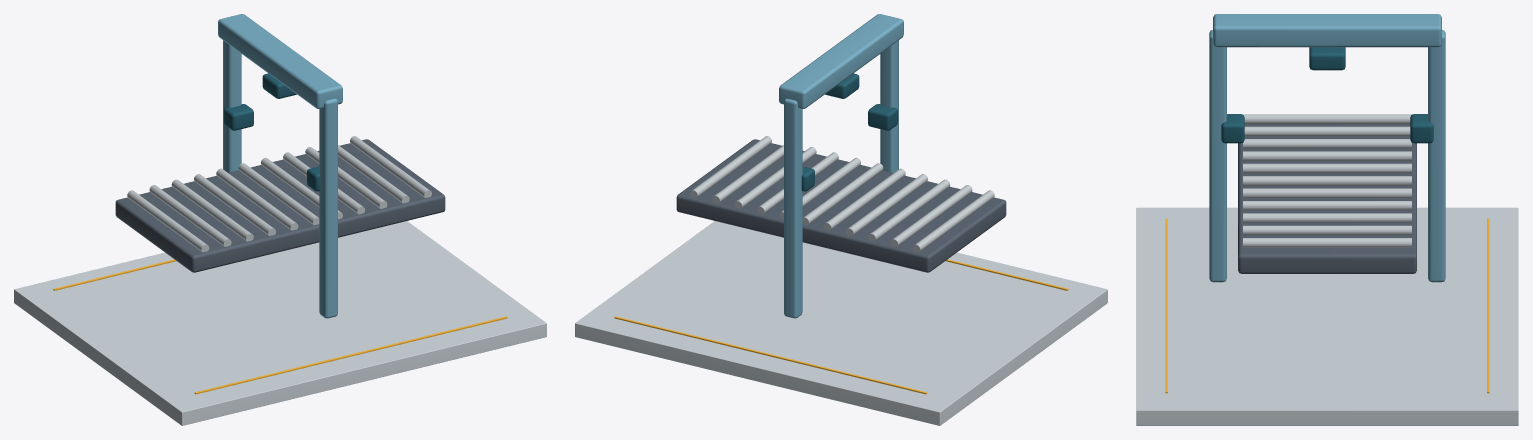
3 renders of one model, left to right at view 1: azimuth 30°, elevation 25°; view 2: azimuth 150°, elevation 25°; view 3: azimuth 270°, elevation 25°, orthographic. The views are drawn at different scales.
Parts seen in each view (by area): view 1: Ground plane, Roller conveyor, Scanner crossbeam, Scanner tunnel post, Scanner tunnel post.001, Concept clearance guide, Conveyor roller, Conveyor roller.001, Conveyor roller.002, Conveyor roller.004, Conveyor roller.005, Conveyor roller.003 (+6 smaller); view 2: Ground plane, Roller conveyor, Scanner crossbeam, Scanner tunnel post.001, Scanner tunnel post, Concept clearance guide.001, Conveyor roller, Conveyor roller.001, Conveyor roller.002, Conveyor roller.004, Conveyor roller.005, Conveyor roller.003 (+6 smaller); view 3: Ground plane, Roller conveyor, Scanner crossbeam, Scanner tunnel post, Scanner tunnel post.001, Conveyor roller.003, Conveyor roller.004, Conveyor roller.006, Conveyor roller.009, Conveyor roller, Conveyor roller.001, Conveyor roller.005 (+9 smaller).
Boxes of the visible parts, x1,y1,x2,y2 form: Ground plane: (14, 221, 546, 425); Roller conveyor: (115, 139, 445, 272); Scanner crossbeam: (218, 14, 342, 108); Scanner tunnel post: (319, 98, 337, 318); Scanner tunnel post.001: (223, 40, 241, 172); Concept clearance guide: (194, 316, 507, 394); Conveyor roller: (127, 190, 209, 252); Conveyor roller.001: (149, 185, 231, 246); Conveyor roller.002: (171, 179, 253, 241); Conveyor roller.004: (216, 168, 298, 230); Conveyor roller.005: (238, 163, 319, 225); Conveyor roller.003: (194, 174, 275, 235); Ground plane: (575, 221, 1107, 425); Roller conveyor: (676, 139, 1006, 272); Scanner crossbeam: (779, 14, 903, 108); Scanner tunnel post.001: (784, 98, 802, 318); Scanner tunnel post: (880, 40, 898, 172); Concept clearance guide.001: (614, 316, 927, 394); Conveyor roller: (912, 190, 994, 252); Conveyor roller.001: (890, 185, 972, 246); Conveyor roller.002: (868, 179, 950, 241); Conveyor roller.004: (823, 168, 905, 230); Conveyor roller.005: (802, 163, 883, 225); Conveyor roller.003: (846, 174, 927, 235); Ground plane: (1136, 207, 1518, 425); Roller conveyor: (1238, 124, 1416, 273); Scanner crossbeam: (1213, 14, 1441, 47); Scanner tunnel post: (1209, 30, 1226, 282); Scanner tunnel post.001: (1428, 30, 1445, 282); Conveyor roller.003: (1243, 151, 1411, 161); Conveyor roller.004: (1243, 163, 1411, 173); Conveyor roller.006: (1243, 188, 1411, 198); Conveyor roller.009: (1243, 225, 1411, 235); Conveyor roller: (1243, 114, 1411, 124); Conveyor roller.001: (1244, 126, 1410, 136); Conveyor roller.005: (1243, 176, 1411, 185).
Bounding box in the file's own units: 3.28 × 2.3 × 2.62.
